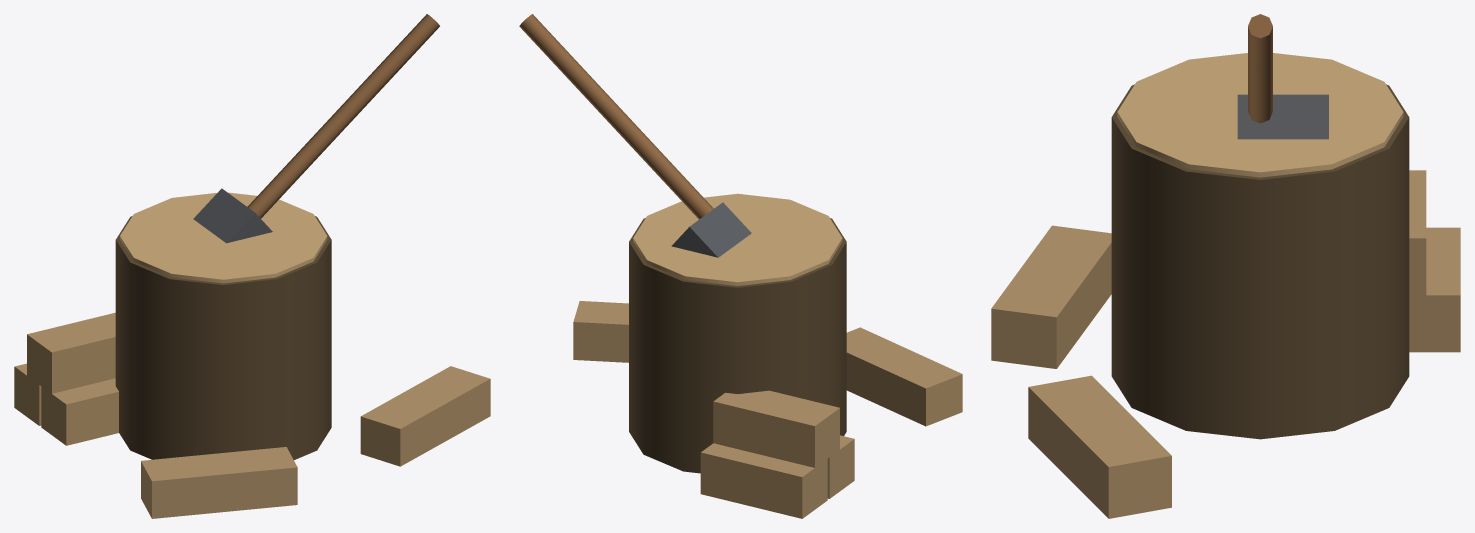
Rendered from kolodka.glb.
3 renders of one model, left to right at view 1: azimuth 30°, elevation 25°; view 2: azimuth 150°, elevation 25°; view 3: azimuth 270°, elevation 25°, orthographic. The views are drawn at different scales.
Visible parts, largest first — view 1: block, split (×2), block_top, stack (×3), axe_haft, axe_head; view 2: block, stack (×3), block_top, split (×2), axe_haft, axe_head; view 3: block, split (×2), block_top, stack (×2), axe_head, axe_haft.
Boxes of the visible parts, x1,y1,x2,y2 form: block: (115,216,331,459); split (×2): (141,366,490,518); block_top: (120,192,327,283); stack (×3): (14,312,118,445); axe_haft: (247,14,439,218); axe_head: (193,188,272,243); block: (629,218,846,473); stack (×3): (700,390,854,518); block_top: (633,193,842,285); split (×2): (573,301,962,426); axe_haft: (519,14,713,219); axe_head: (671,202,751,257); block: (1111,84,1409,439); split (×2): (991,225,1171,518); block_top: (1117,53,1403,177); stack (×2): (1409,170,1460,352); axe_head: (1237,94,1328,139); axe_haft: (1248,14,1272,123).
Bounding box in the file's own units: 1.01 × 0.9648 × 0.8205.
